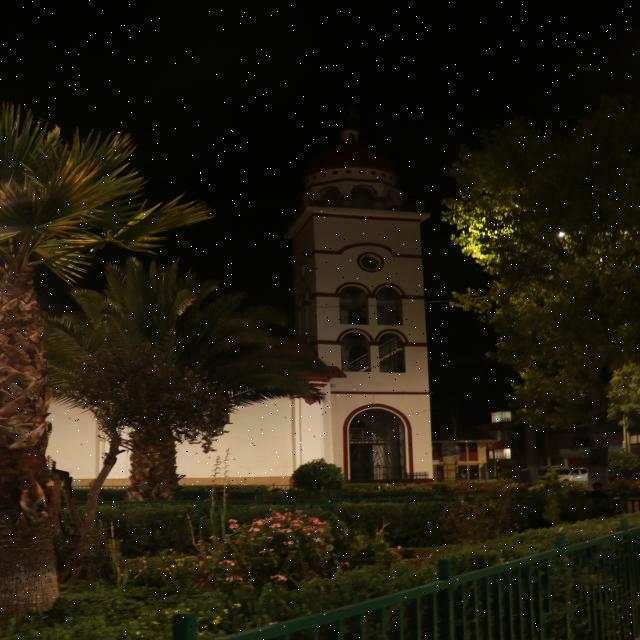CAMPANARIO: (280, 180, 447, 394)
CUPULA: (296, 126, 427, 210)
TORRES: (261, 112, 461, 510)
colonial-architecture-: (0, 0, 526, 495)
